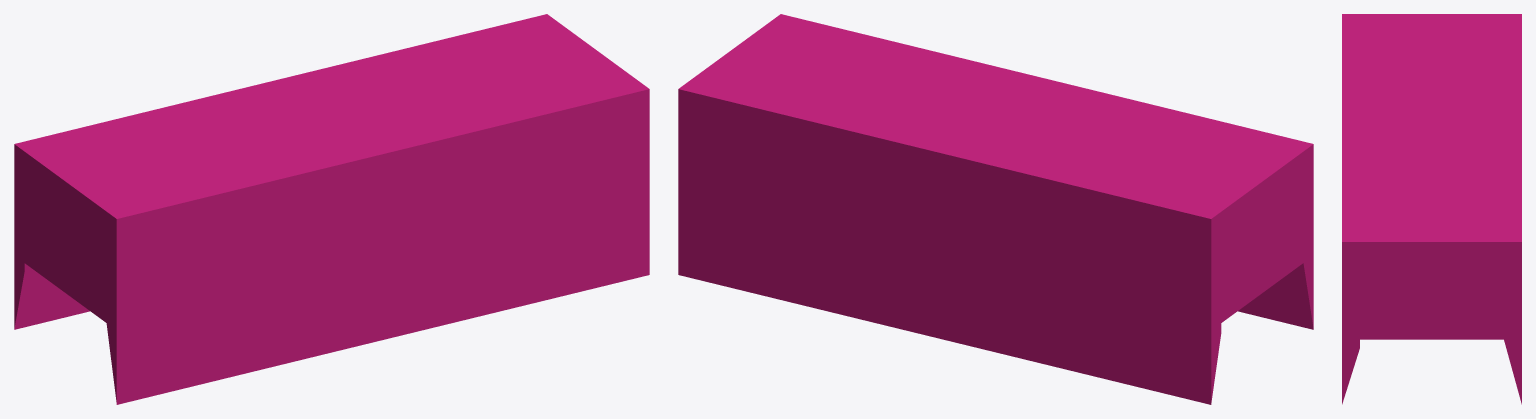
The model's file is tunnel_x_40cm_hole_300cm_len.dae.
3 views of the same model, side by side, from view 1: azimuth 30°, elevation 25°; view 2: azimuth 150°, elevation 25°; view 3: azimuth 270°, elevation 25° (orthographic). The views are drawn at different scales.
Visible parts, largest first — view 1: Cube; view 2: Cube; view 3: Cube.
Part boxes in pixels (bbox=[...]): Cube: bbox=[14, 14, 649, 404]; Cube: bbox=[678, 14, 1313, 404]; Cube: bbox=[1342, 14, 1521, 404].
Bounding box in the file's own units: 3 × 1 × 1.
